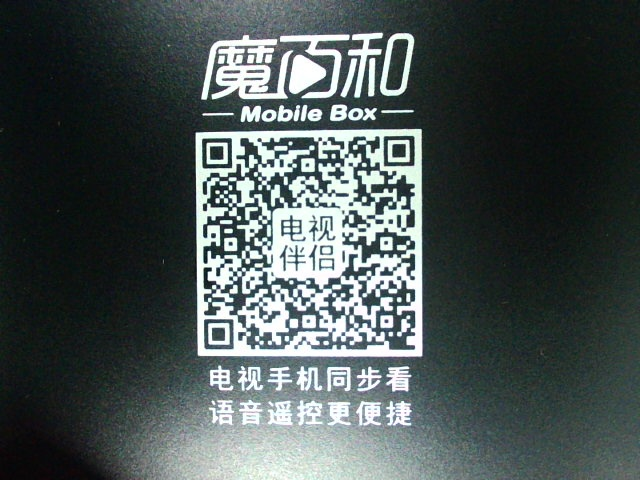AZ_MobileBox: (182, 25, 430, 437)
